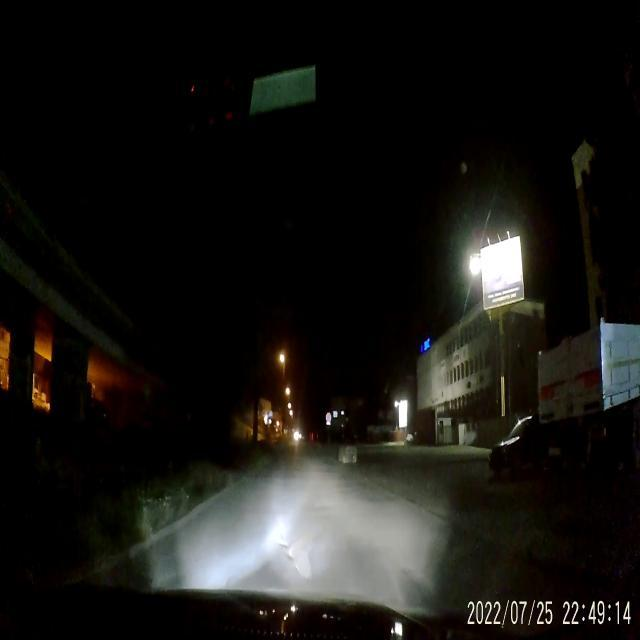Pothole: (278, 530, 308, 578)
